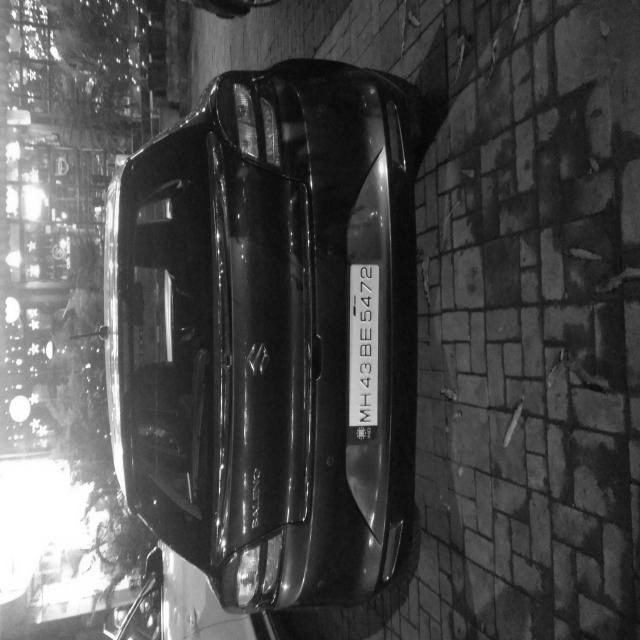car: (20, 135, 438, 570)
license-plate: (159, 462, 283, 511)
